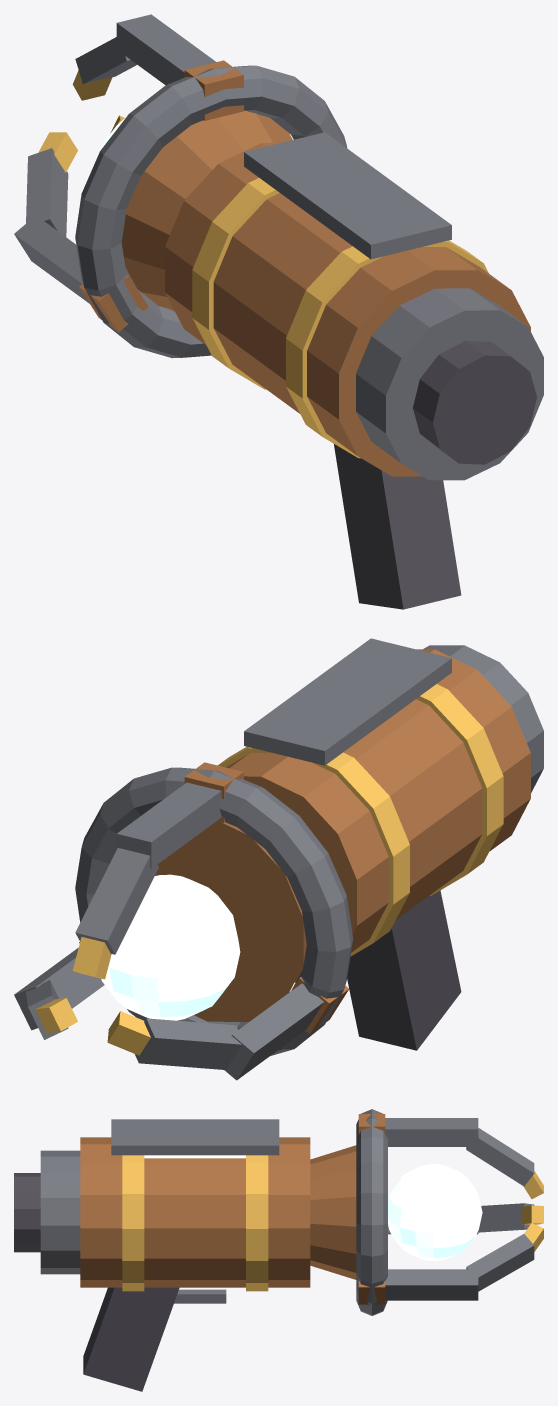
File: gravity_gun.glb
The picture shows the model from 3 angles, top to bottom: view 1: azimuth 30°, elevation 25°; view 2: azimuth 150°, elevation 25°; view 3: azimuth 270°, elevation 25°; orthographic projection. The views are drawn at different scales.
Parts seen in each view (by area): view 1: Body, ClawC, ClawA; view 2: Body, Core, ClawA, ClawC, ClawB; view 3: Body, Core, ClawB, ClawA, ClawC.
Boxes of the visible parts, x1,y1,x2,y2 form: Body: (75,65,543,609); ClawC: (14,132,148,332); ClawA: (72,14,243,120); Body: (75,638,543,1055); Core: (101,874,240,1020); ClawA: (72,762,243,979); ClawC: (107,977,348,1080); ClawB: (14,942,104,1039); Body: (14,1109,387,1391); Core: (388,1164,482,1260); ClawB: (358,1223,543,1304); ClawA: (358,1114,543,1198); ClawC: (388,1203,543,1234).
Bounding box in the file's own units: 0.236 × 0.3301 × 0.5994.
